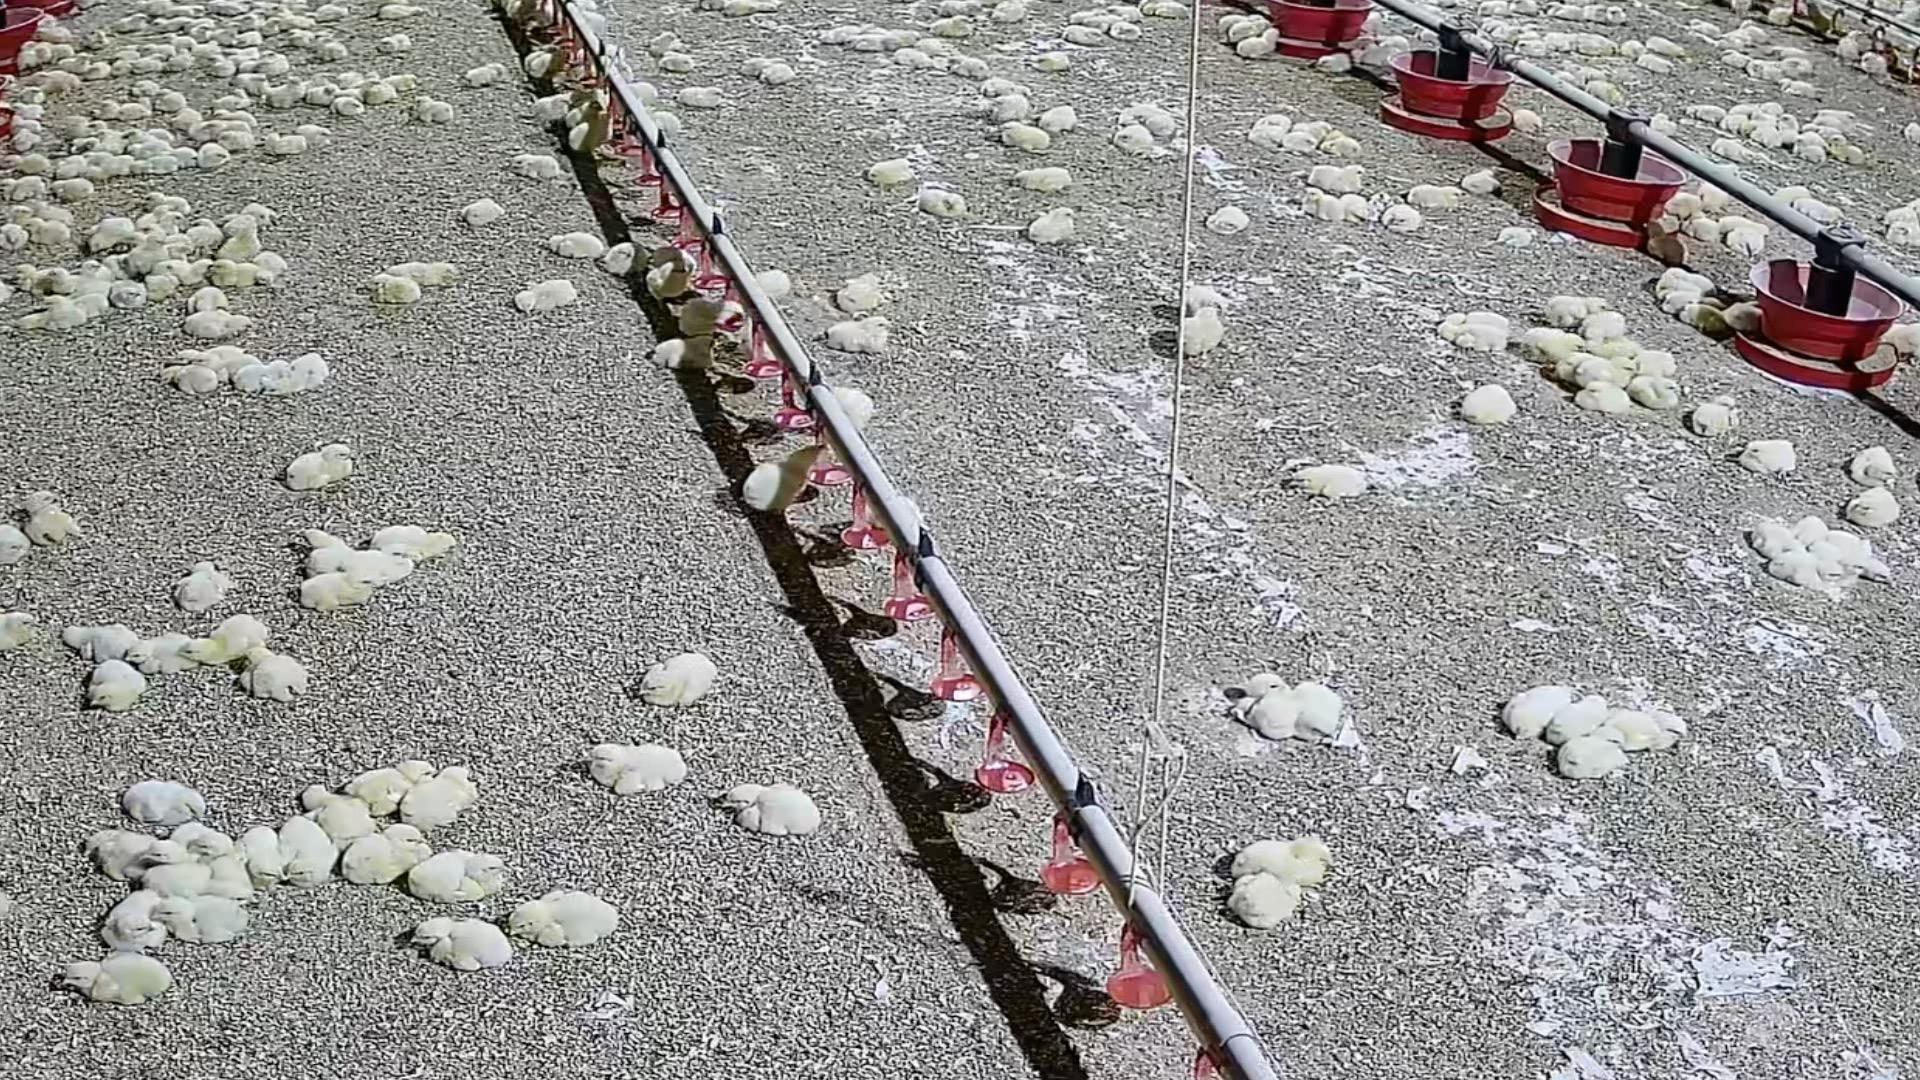poussin: (409, 914, 510, 978), (741, 443, 828, 514), (512, 890, 621, 945), (61, 948, 170, 1001), (723, 782, 822, 839), (274, 814, 348, 886), (407, 853, 510, 903), (1224, 837, 1332, 885), (297, 786, 377, 848), (640, 651, 723, 708), (294, 570, 388, 618), (406, 765, 481, 825), (1233, 865, 1302, 931), (193, 832, 258, 899), (588, 746, 691, 789), (94, 891, 178, 943), (344, 827, 426, 880), (157, 899, 265, 938), (1609, 700, 1684, 753), (186, 615, 266, 663), (117, 783, 211, 824), (343, 761, 433, 803), (1501, 683, 1568, 736), (1241, 673, 1298, 735), (1286, 465, 1371, 506), (1826, 530, 1892, 583), (240, 824, 291, 891), (74, 828, 158, 869), (1295, 674, 1345, 742), (1775, 551, 1842, 601), (148, 818, 223, 862), (1555, 733, 1635, 774), (285, 443, 353, 491), (88, 659, 146, 715), (129, 633, 203, 675), (266, 351, 331, 397), (32, 491, 84, 546), (247, 647, 301, 700), (178, 559, 232, 612), (651, 335, 719, 377), (1545, 698, 1606, 744), (378, 527, 463, 559), (347, 554, 418, 591), (641, 257, 694, 306), (819, 319, 895, 352), (62, 624, 138, 657), (1179, 307, 1228, 359), (1739, 440, 1803, 479), (301, 522, 349, 571), (825, 389, 878, 434), (1303, 158, 1366, 194), (1461, 382, 1518, 422), (1182, 282, 1238, 322), (669, 294, 727, 332), (133, 866, 222, 891), (1745, 518, 1799, 558), (1818, 542, 1865, 588), (1847, 487, 1904, 524), (1439, 309, 1522, 334), (1644, 222, 1689, 268), (183, 311, 257, 339), (239, 357, 290, 397), (1543, 298, 1619, 324), (1654, 295, 1726, 323), (1573, 384, 1636, 415), (0, 609, 40, 659), (575, 113, 616, 161), (216, 219, 256, 268), (1519, 326, 1578, 357), (514, 280, 579, 309), (87, 211, 136, 249), (510, 149, 566, 182), (1696, 396, 1743, 434), (1445, 327, 1514, 353), (1623, 378, 1684, 407), (1656, 269, 1722, 295), (368, 274, 427, 303), (179, 356, 223, 396), (1033, 208, 1081, 243), (388, 265, 462, 287), (28, 299, 84, 328), (1878, 320, 1920, 359), (1585, 309, 1638, 339), (1011, 166, 1079, 190), (1000, 124, 1054, 153), (208, 260, 262, 289), (414, 95, 458, 131), (545, 235, 605, 260), (919, 191, 971, 220), (1634, 348, 1679, 381), (1577, 338, 1647, 359), (1857, 444, 1895, 483), (527, 44, 564, 83), (1302, 191, 1342, 227), (1576, 360, 1634, 385), (32, 69, 83, 96), (15, 262, 55, 297), (1677, 214, 1724, 244), (1241, 32, 1283, 65), (868, 158, 920, 185), (0, 525, 33, 567), (112, 276, 149, 313), (131, 232, 166, 270), (836, 284, 887, 310), (607, 240, 647, 273), (646, 105, 688, 137), (465, 62, 509, 92), (460, 196, 508, 224), (1693, 171, 1727, 210), (1408, 189, 1466, 211), (0, 175, 51, 200), (262, 131, 311, 157), (1465, 165, 1511, 193), (1338, 194, 1374, 229), (530, 94, 574, 123), (22, 222, 70, 248), (1729, 301, 1771, 330), (297, 117, 331, 153), (1797, 198, 1844, 224), (1776, 76, 1822, 103), (1226, 22, 1270, 50), (1792, 510, 1822, 550), (0, 206, 29, 247), (186, 285, 228, 313), (1805, 0, 1836, 38), (754, 269, 793, 299), (1245, 125, 1288, 152), (1138, 108, 1182, 135), (144, 262, 171, 303), (1357, 46, 1404, 70), (1042, 102, 1077, 133), (647, 245, 698, 268), (167, 261, 218, 284), (257, 248, 287, 285), (1729, 229, 1771, 256), (1880, 200, 1920, 228), (154, 86, 194, 113), (7, 153, 55, 175), (1713, 140, 1756, 165), (1379, 207, 1423, 232), (1833, 136, 1869, 166), (1585, 79, 1626, 105), (1660, 191, 1701, 218), (158, 211, 195, 240), (1215, 15, 1269, 34), (1555, 353, 1602, 376), (1718, 214, 1771, 233), (1117, 128, 1156, 154), (189, 219, 222, 251), (314, 33, 347, 65), (1834, 29, 1869, 59), (244, 204, 280, 233), (1025, 53, 1076, 73), (1325, 135, 1364, 161), (1685, 305, 1727, 328), (1062, 26, 1109, 47), (273, 75, 305, 107), (363, 79, 402, 104), (992, 98, 1035, 120), (181, 348, 255, 361), (144, 194, 196, 212), (1207, 208, 1247, 232), (1317, 49, 1352, 76), (894, 47, 936, 70), (678, 88, 725, 108), (1634, 55, 1675, 78), (563, 104, 596, 132), (951, 53, 989, 76), (620, 80, 658, 104), (207, 109, 260, 127), (199, 142, 235, 167), (219, 128, 255, 153), (823, 25, 868, 45), (47, 268, 92, 287), (138, 204, 175, 228), (1816, 104, 1859, 124), (1578, 32, 1617, 54), (720, 3, 774, 18), (1110, 21, 1146, 45), (576, 9, 612, 33), (1284, 132, 1316, 158), (935, 18, 977, 38), (1648, 37, 1685, 59), (231, 71, 265, 95), (657, 51, 698, 71), (109, 15, 150, 34), (121, 129, 165, 148), (1145, 1, 1191, 18), (132, 158, 178, 175), (1887, 223, 1920, 247), (1298, 120, 1337, 140), (1495, 228, 1538, 247), (981, 76, 1030, 92), (1866, 50, 1888, 84), (9, 113, 45, 135), (1796, 141, 1824, 167), (1254, 113, 1294, 132), (852, 37, 891, 55), (737, 59, 787, 74), (261, 49, 290, 74), (29, 26, 78, 41), (1545, 1, 1584, 20), (761, 65, 799, 83), (1545, 29, 1581, 49), (78, 260, 113, 280), (996, 0, 1023, 25), (55, 181, 99, 196), (1691, 15, 1721, 37), (1511, 107, 1542, 129), (373, 8, 425, 21), (1776, 185, 1808, 206), (1766, 4, 1801, 22), (1749, 62, 1784, 80), (1117, 102, 1145, 125), (1385, 32, 1418, 51), (131, 79, 160, 102), (385, 74, 422, 91), (1683, 103, 1726, 117), (12, 100, 44, 120), (1902, 112, 1920, 145), (208, 51, 233, 75), (212, 0, 253, 15), (380, 34, 414, 51), (1724, 54, 1755, 73), (40, 44, 78, 58), (1779, 116, 1799, 144), (149, 16, 195, 28), (287, 26, 316, 45), (314, 7, 351, 21), (9, 131, 38, 149), (339, 98, 364, 119), (650, 32, 676, 51), (123, 105, 150, 124), (91, 123, 119, 141), (886, 28, 924, 41), (94, 99, 117, 120), (84, 62, 109, 82), (306, 84, 332, 103), (1514, 42, 1553, 54), (167, 7, 207, 17), (1610, 7, 1633, 25), (262, 16, 281, 37), (169, 30, 193, 46)
